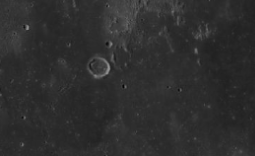crater: (77, 53, 118, 95), (99, 34, 121, 53)
